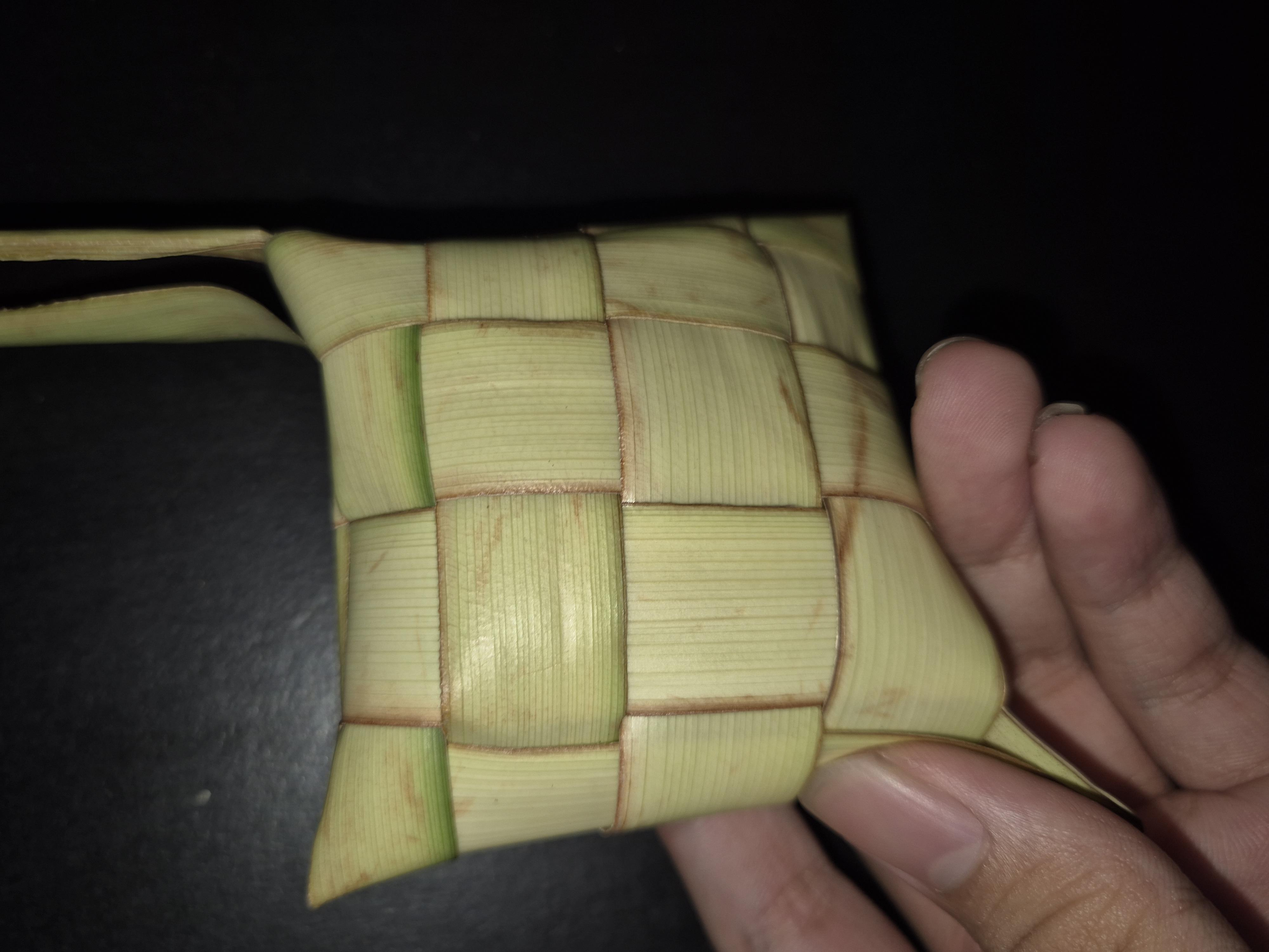Tipat Nasi: (73, 199, 978, 752)
